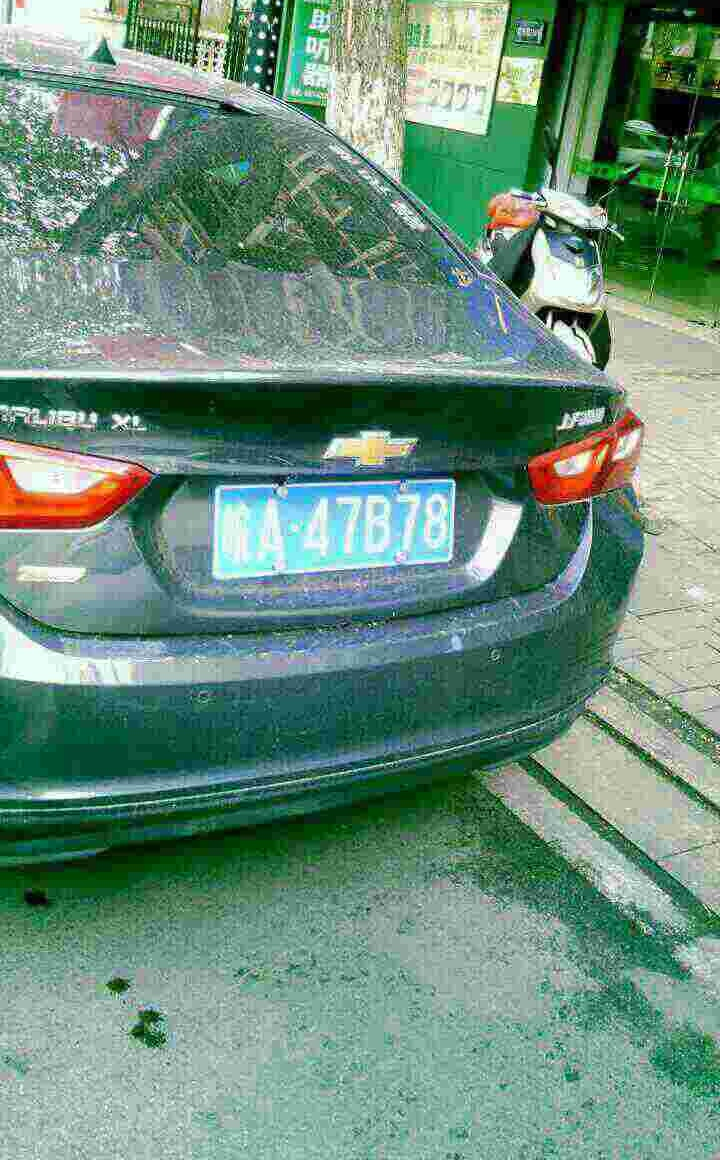license_plate: (212, 483, 464, 580)
